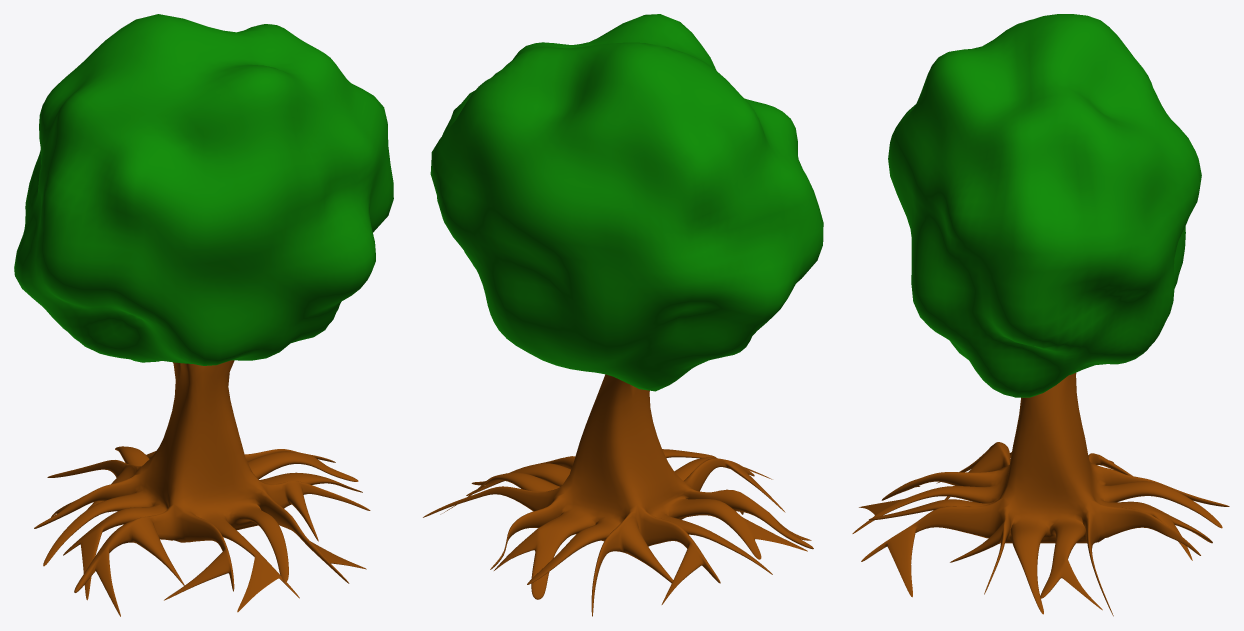
The model's file is treemama_v1.fbx.
3 views of the same model, side by side, from view 1: azimuth 30°, elevation 25°; view 2: azimuth 150°, elevation 25°; view 3: azimuth 270°, elevation 25° (orthographic).
Visible parts, largest first — view 1: baum_top, baum_bottom; view 2: baum_top, baum_bottom; view 3: baum_top, baum_bottom.
Boxes of the visible parts, x1,y1,x2,y2 form: baum_top: (14, 14, 393, 365); baum_bottom: (34, 360, 370, 616); baum_top: (430, 14, 823, 391); baum_bottom: (423, 374, 813, 616); baum_top: (888, 14, 1201, 397); baum_bottom: (852, 373, 1229, 616).
Size of the model in its own units: 2331 by 3251 by 2149.
